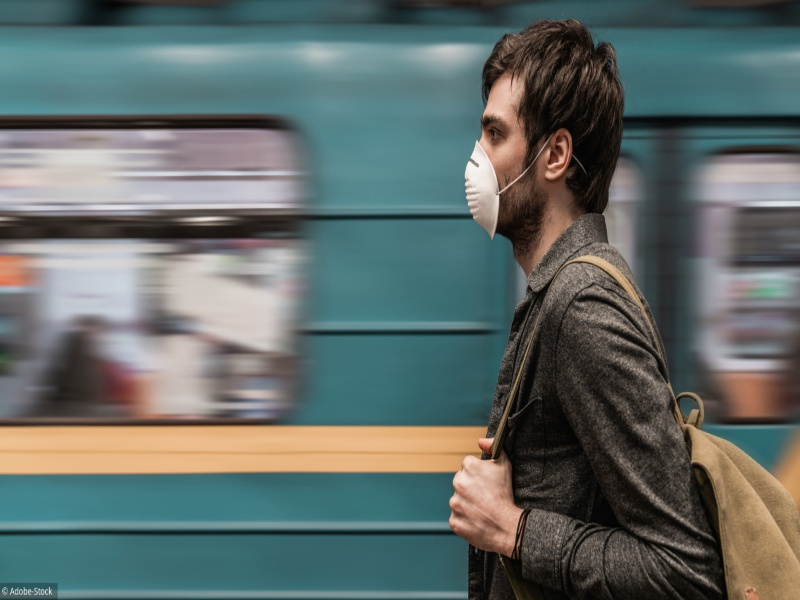ManaoArotava: (446, 43, 580, 272)
